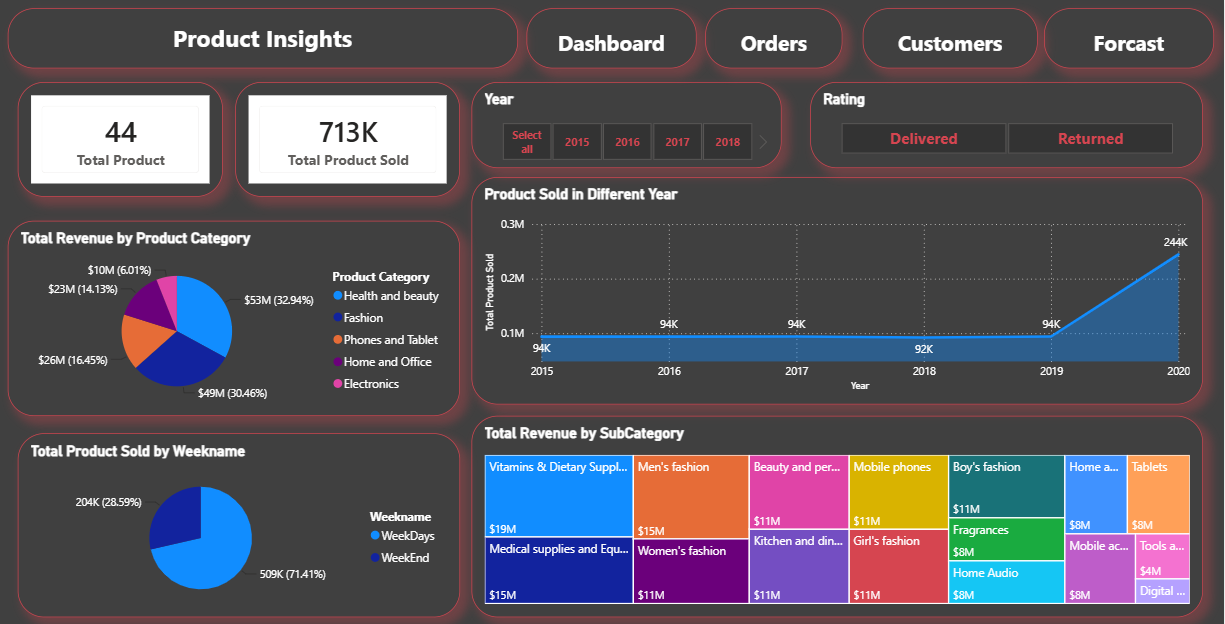

Layout of this report page (visuals, bound fields, positions):
{"tool":"powerbi","page":{"name":"Product","canvas":[1400,720],"ordinal":3},"visuals":[{"type":"textbox","box":[10,12.9,582.9,68.6],"z":0},{"type":"slicer","title":"Year","fields":{"Values":["Calendar Table.Year"]},"box":[540,97.1,354.3,98.6],"z":1000},{"type":"slicer","title":"Rating","fields":{"Values":["Fact Data.Status"]},"box":[927.1,97.1,448.6,98.6],"z":2000},{"type":"cardVisual","title":"Total Revenue","fields":{"Data":["All Measure.Total Product"]},"box":[21.4,97.1,234.3,131.4],"z":3000},{"type":"areaChart","title":"Product Sold in Different Year","fields":{"Category":["Calendar Table.Date.Variation.Date Hierarchy.Year"],"Y":["All Measure.Total Product Sold"]},"box":[540,205.7,835.7,260],"z":4000},{"type":"cardVisual","title":"Total Revenue","fields":{"Data":["All Measure.Total Product Sold"]},"box":[270,97.1,257.1,131.4],"z":5000},{"type":"pieChart","fields":{"Category":["Product Category.Product Category"],"Y":["All Measure.Total Revenue"]},"box":[10,255.7,517.1,222.9],"z":6000},{"type":"treemap","fields":{"Values":["All Measure.Total Revenue"],"Group":["Product SubCategory.SubCategory"]},"box":[540,478.6,835.7,230],"z":7000},{"type":"pieChart","fields":{"Category":["Calendar Table.Weekname"],"Y":["All Measure.Total Product Sold"]},"box":[21.4,498.6,505.7,210],"z":8000},{"type":"actionButton","title":"Dashboard","box":[602.9,12.9,194.3,68.6],"z":9000},{"type":"actionButton","title":"Orders","box":[807.1,12.9,157.1,68.6],"z":10000},{"type":"actionButton","title":"Customers","box":[987.1,12.9,200,68.6],"z":11000},{"type":"actionButton","title":"Forcast","box":[1194.3,12.9,194.3,68.6],"z":12000}]}

Visuals, with their boxes in screenshot pixels (x1, y1, x2, y2), scaled from the page's 1400x720 canvas onto the 1225x624 screenshot:
textbox: <region>9, 11, 519, 71</region>
"Year" slicer: <region>472, 84, 783, 170</region>
"Rating" slicer: <region>811, 84, 1204, 170</region>
"Total Revenue" cardVisual: <region>19, 84, 224, 198</region>
"Product Sold in Different Year" areaChart: <region>472, 178, 1204, 404</region>
"Total Revenue" cardVisual: <region>236, 84, 461, 198</region>
pieChart - Product Category.Product Category x All Measure.Total Revenue: <region>9, 222, 461, 415</region>
treemap - All Measure.Total Revenue x Product SubCategory.SubCategory: <region>472, 415, 1204, 614</region>
pieChart - Calendar Table.Weekname x All Measure.Total Product Sold: <region>19, 432, 461, 614</region>
"Dashboard" actionButton: <region>528, 11, 698, 71</region>
"Orders" actionButton: <region>706, 11, 844, 71</region>
"Customers" actionButton: <region>864, 11, 1039, 71</region>
"Forcast" actionButton: <region>1045, 11, 1215, 71</region>
